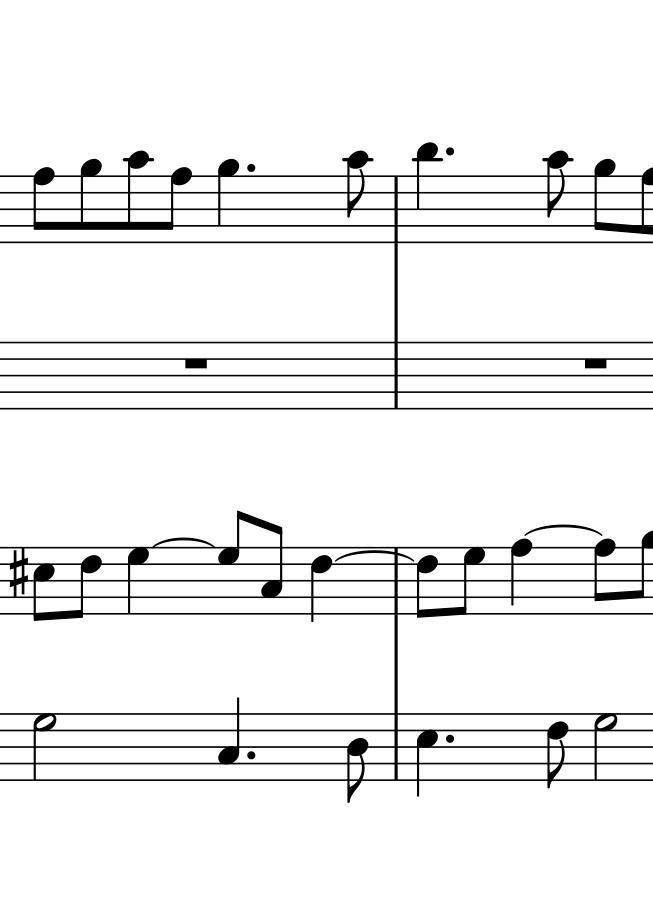2_7: (591, 710, 619, 781), (31, 711, 58, 784)
4_10: (414, 140, 441, 246)
4_3: (216, 697, 243, 783)
4_5: (414, 710, 437, 798)
4_6: (308, 544, 334, 623)
4_7: (124, 546, 152, 616)
4_8: (508, 538, 534, 616)
4_9: (216, 159, 242, 246)
8_10: (545, 147, 574, 246), (345, 151, 372, 246), (124, 150, 150, 245)
8_3: (260, 521, 286, 620)
8_4: (344, 710, 369, 802)
8_5: (31, 543, 55, 624)
8_6: (72, 544, 102, 620), (545, 711, 569, 792), (414, 544, 439, 620)
8_7: (217, 508, 247, 614), (455, 545, 486, 615)
8_8: (163, 166, 193, 246), (30, 166, 56, 246), (591, 539, 618, 616)
8_9: (79, 156, 104, 246), (592, 158, 617, 245)
Rests1: (181, 353, 211, 373), (581, 353, 611, 372)
Sharp: (8, 546, 27, 599)
Single_barline: (387, 174, 405, 244), (388, 340, 405, 412), (389, 548, 407, 615), (390, 713, 403, 782)
Slur: (521, 523, 605, 538), (336, 550, 413, 562), (152, 535, 211, 549)
dot: (243, 746, 261, 765), (243, 160, 261, 178), (440, 728, 457, 747), (442, 145, 458, 161), (243, 161, 256, 174), (243, 749, 256, 761), (443, 733, 456, 744)
